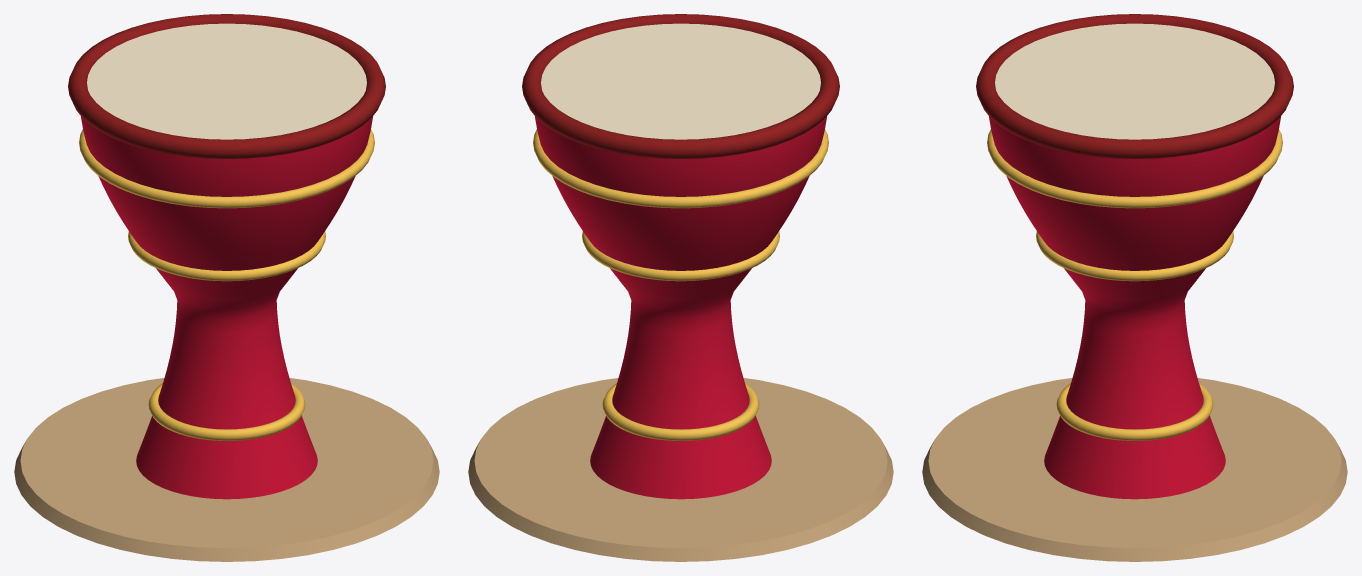
File: darbuka.glb
The picture shows the model from 3 angles, left to right: view 1: azimuth 30°, elevation 25°; view 2: azimuth 150°, elevation 25°; view 3: azimuth 270°, elevation 25°; orthographic projection.
Parts seen in each view (by area): view 1: body, ground, skin; view 2: body, ground, skin; view 3: body, ground, skin.
Part boxes in pixels (bbox=[...]): body: bbox=[79, 116, 374, 499]; ground: bbox=[14, 378, 439, 561]; skin: bbox=[68, 14, 385, 158]; body: bbox=[533, 116, 828, 499]; ground: bbox=[468, 378, 893, 561]; skin: bbox=[522, 14, 839, 158]; body: bbox=[987, 116, 1282, 499]; ground: bbox=[922, 378, 1347, 561]; skin: bbox=[976, 14, 1293, 158].
Size of the model in its own units: 1.03 by 1.06 by 1.03.
